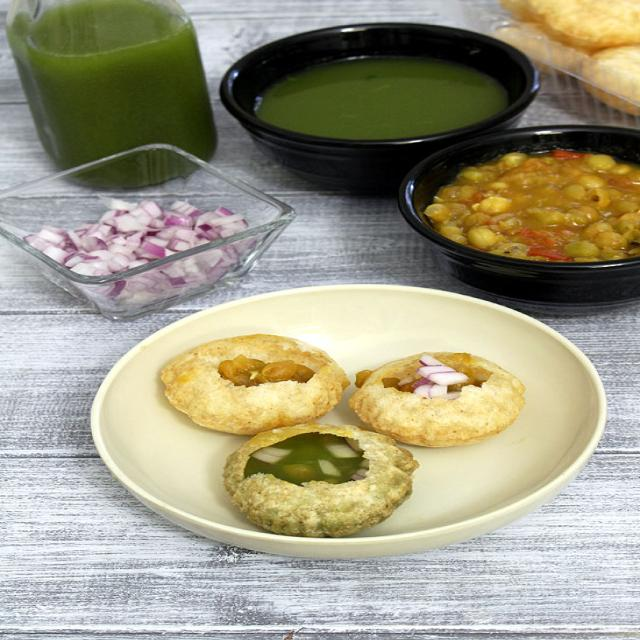paani_puri: (185, 324, 516, 556)
